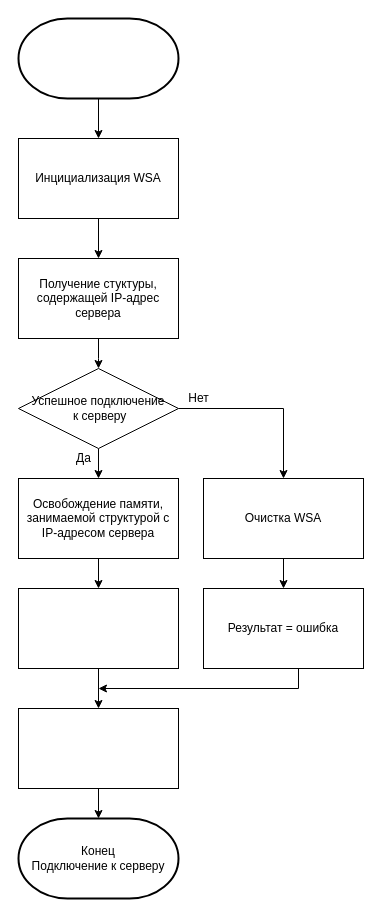
Image size: 381x916. Some labels were removed from this diagram. Here are the shapes that lost their labels. From the top down, the box of each, then its label:
(17, 17, 179, 99): Начало Подключение к серверу
(18, 588, 178, 668): Результат = успех
(18, 708, 178, 788): Возврат результата
